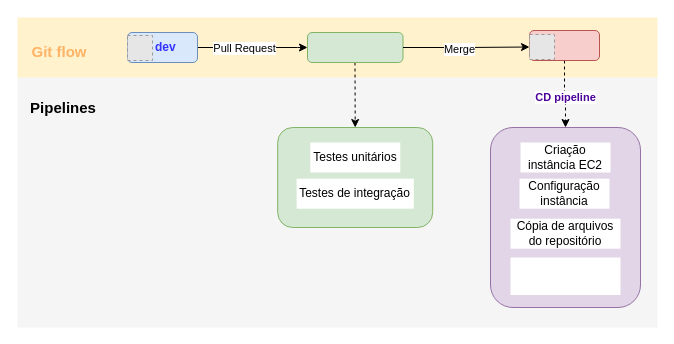
Image size: 674x344. Some labels were removed from this diagram. Grey dashed boxes stand in for pictures. Here are the shapes that lost their labels. From the top down, the box of each, then its label:
(306, 32, 403, 62): CI pipeline
(528, 30, 600, 60): main
(510, 257, 620, 294): Deploy da aplicação via docker compose
